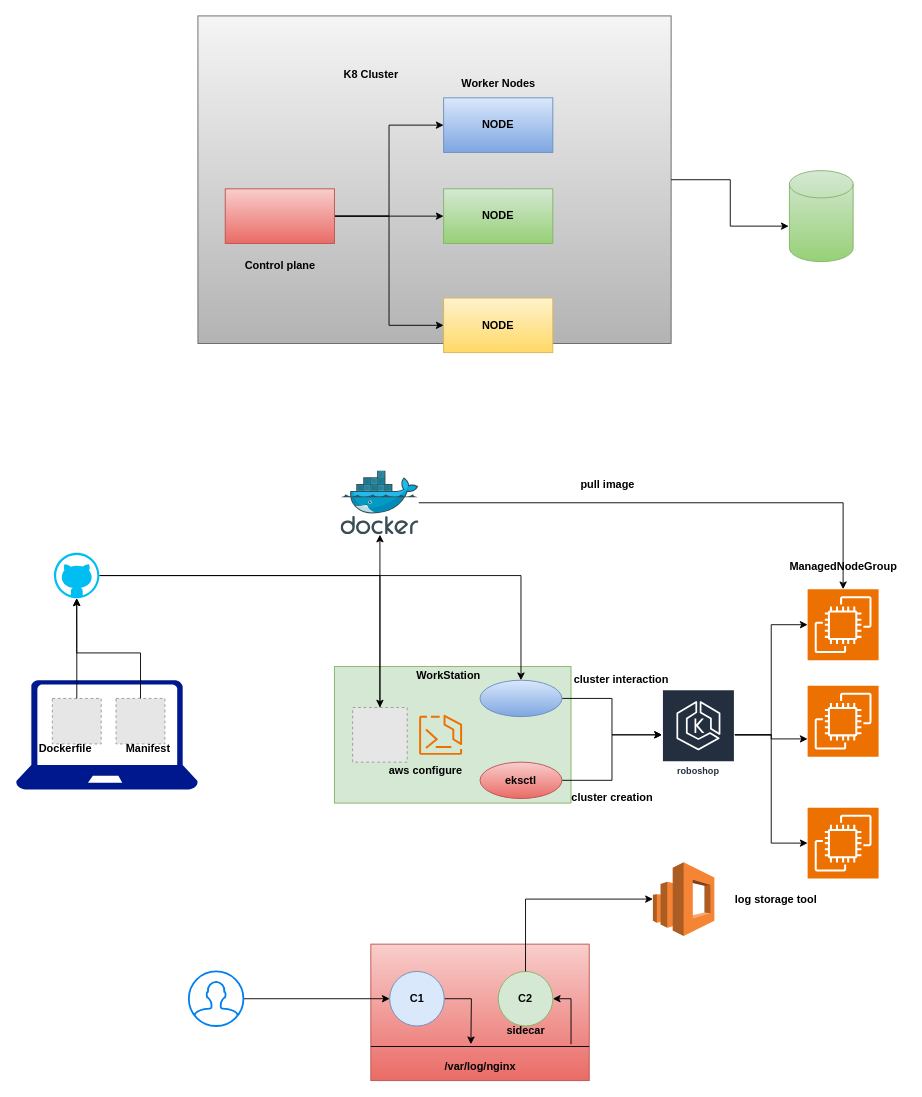
This 922x1097 diagram has some shape labels left out. Grey dashed boxes stand in for pictures. The shapes that lost their labels are listed below. From the top down, each one's box as (x1, y1, x2, y2) in pixels, then its label:
(224, 188, 334, 243): Master
(789, 170, 853, 262): Data
(479, 679, 562, 717): kubectl
